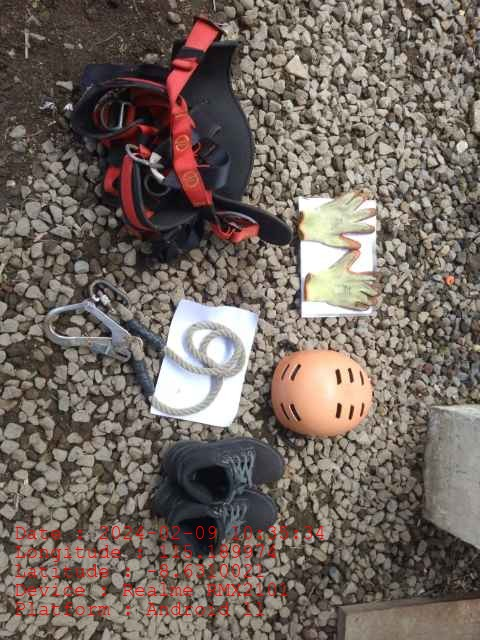HELM: (271, 349, 372, 438)
SARUNG_TANGAN: (299, 190, 379, 250), (303, 250, 379, 311)
TAMBANG_SLING: (41, 277, 245, 415)
